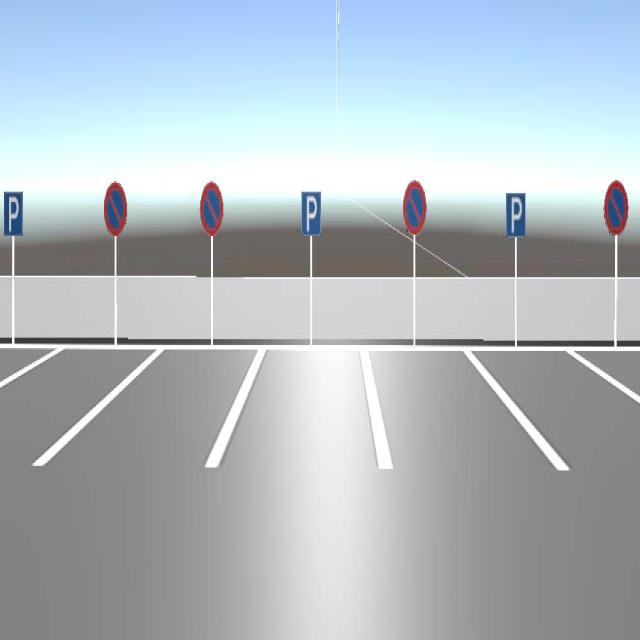park: (5, 193, 22, 236)
parkyasak: (402, 182, 427, 234), (605, 181, 628, 236), (104, 183, 126, 236), (201, 183, 223, 234)
